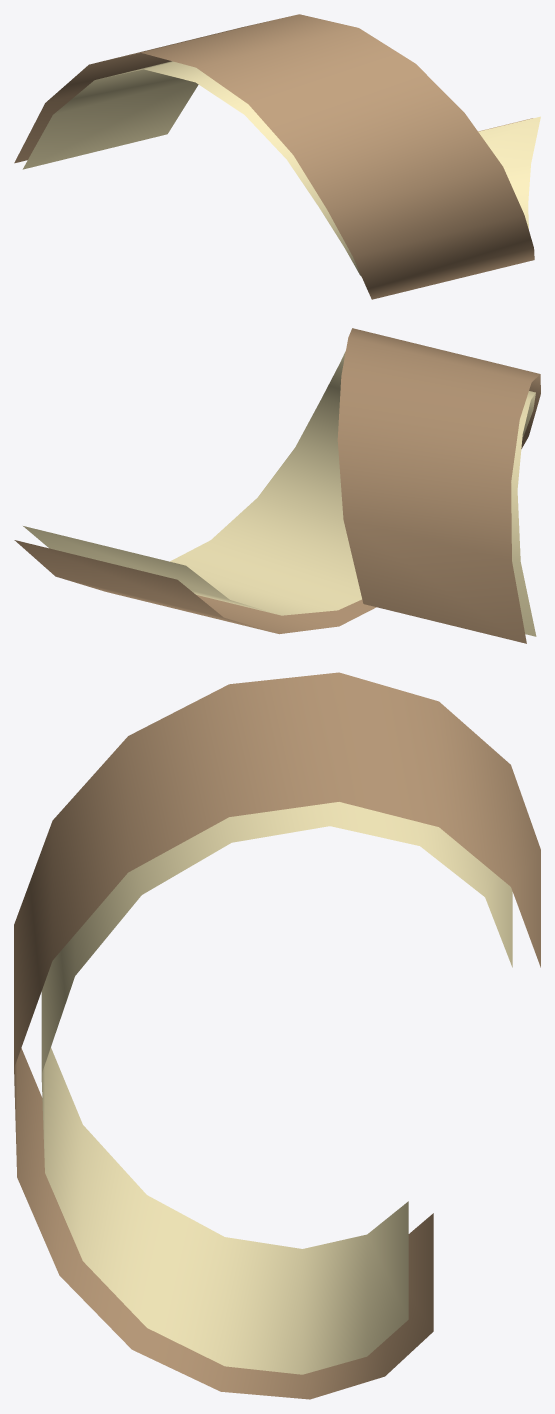
The model's file is peel-curl.glb.
3 renders of one model, top to bottom at view 1: azimuth 30°, elevation 25°; view 2: azimuth 150°, elevation 25°; view 3: azimuth 270°, elevation 25°, orthographic. The views are drawn at different scales.
Parts seen in each view (by area): view 1: Peel_Curl; view 2: Peel_Curl; view 3: Peel_Curl.
Boxes of the visible parts, bbox=[...] form: Peel_Curl: bbox=[14, 14, 540, 299]; Peel_Curl: bbox=[14, 328, 540, 643]; Peel_Curl: bbox=[14, 672, 540, 1399].
Bounding box in the file's own units: 0.1994 × 0.102 × 0.1116.
